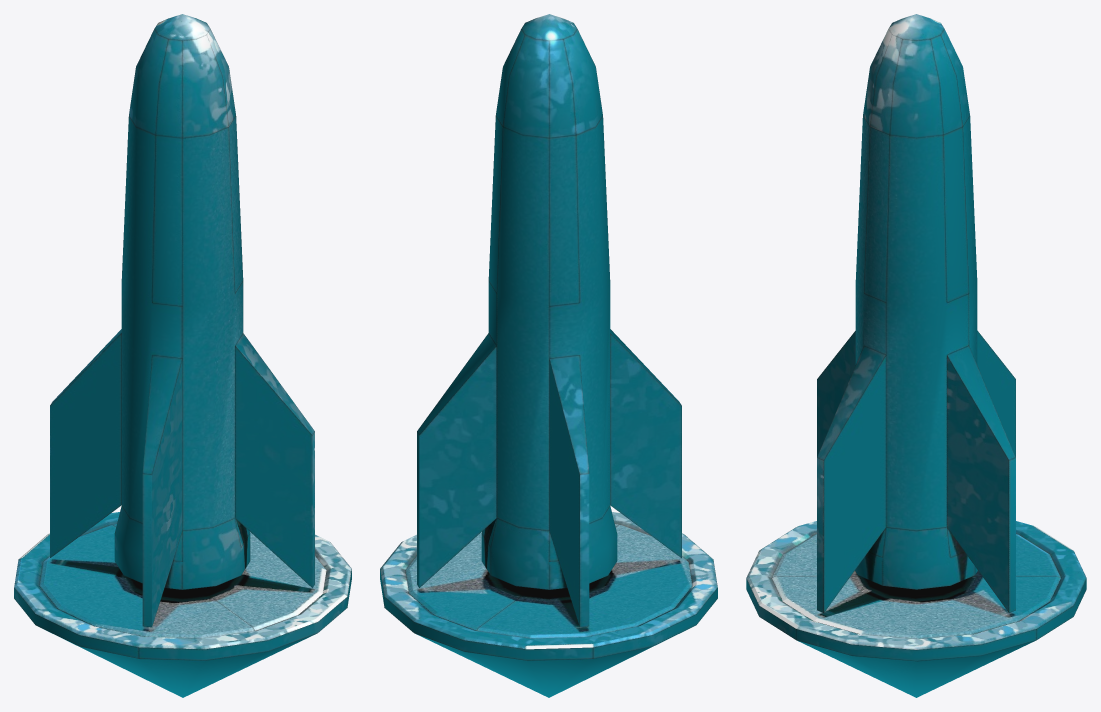
The model's file is missilefull.obj.
The picture shows the model from 3 angles, left to right: view 1: azimuth 30°, elevation 25°; view 2: azimuth 150°, elevation 25°; view 3: azimuth 270°, elevation 25°; orthographic projection.
Visible parts, largest first — view 1: Cylinder006; view 2: Cylinder006; view 3: Cylinder006.
Boxes of the visible parts, x1,y1,x2,y2 form: Cylinder006: [14, 14, 351, 697]; Cylinder006: [380, 14, 717, 697]; Cylinder006: [746, 14, 1086, 697].
Size of the model in its own units: 30.39 by 67.34 by 30.39.
Materials: 1 (1 with a texture image).
